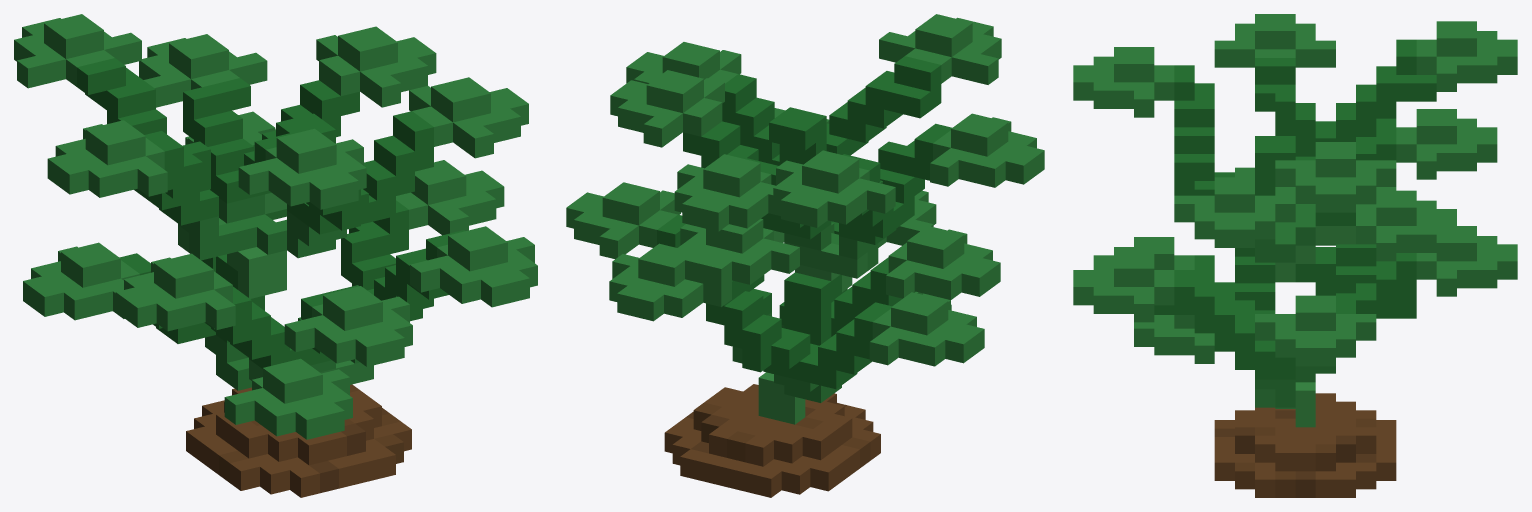
The model's file is 0_2 feij.obj.
3 views of the same model, side by side, from view 1: azimuth 30°, elevation 25°; view 2: azimuth 150°, elevation 25°; view 3: azimuth 270°, elevation 25° (orthographic). The views are drawn at different scales.
Bounding box in the file's own units: 2.4 × 2 × 2.2.
1 material, 1 textured.
